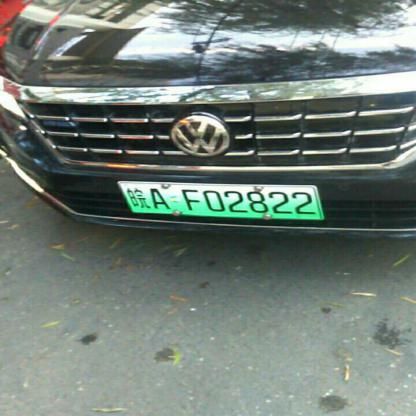lp: (119, 183, 322, 218)
